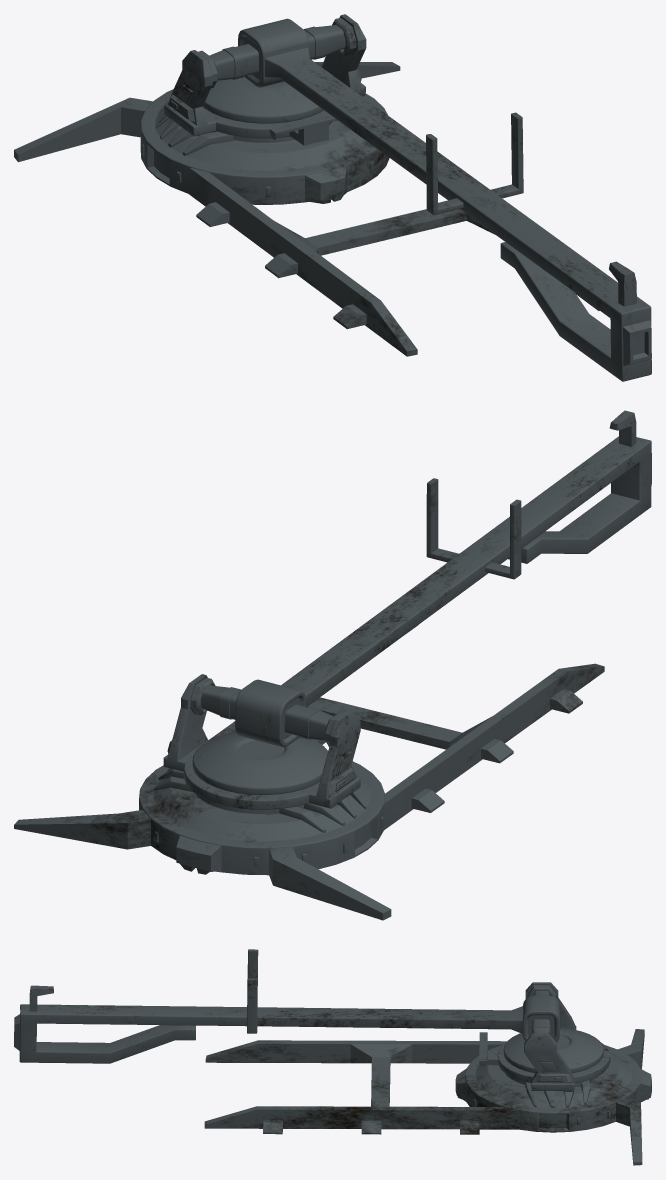
File: SAMs 3.fbx
3 views of the same model, one above another, from view 1: azimuth 30°, elevation 25°; view 2: azimuth 150°, elevation 25°; view 3: azimuth 270°, elevation 25° (orthographic). The views are drawn at different scales.
Visible parts, largest first — view 1: Missile Turret base.003, Missle Turret carrier.003, Missile turret arm.003; view 2: Missile Turret base.003, Missle Turret carrier.003, Missile turret arm.003; view 3: Missile Turret base.003, Missle Turret carrier.003, Missile turret arm.003.
Part boxes in pixels (left/top/right/bottom): Missile Turret base.003: left=14, top=62, right=599, bottom=356; Missle Turret carrier.003: left=209, top=18, right=651, bottom=381; Missile turret arm.003: left=164, top=14, right=366, bottom=145; Missile Turret base.003: left=14, top=625, right=604, bottom=920; Missle Turret carrier.003: left=201, top=410, right=651, bottom=747; Missile turret arm.003: left=163, top=674, right=360, bottom=809; Missile Turret base.003: left=204, top=1028, right=651, bottom=1165; Missle Turret carrier.003: left=14, top=949, right=560, bottom=1063; Missile turret arm.003: left=479, top=982, right=610, bottom=1091.
Bounding box in the file's own units: 695 × 329 × 1424.
3 materials, 3 textured.
